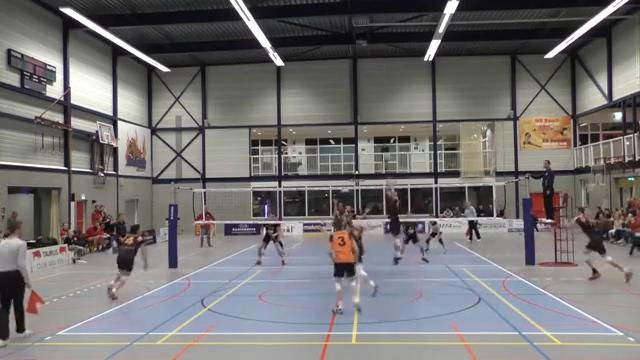Player: (573, 208, 632, 282), (107, 224, 147, 299), (346, 207, 378, 296), (329, 223, 360, 313), (255, 216, 285, 265), (401, 222, 428, 262), (425, 220, 446, 252)
Set: (381, 181, 408, 271)
